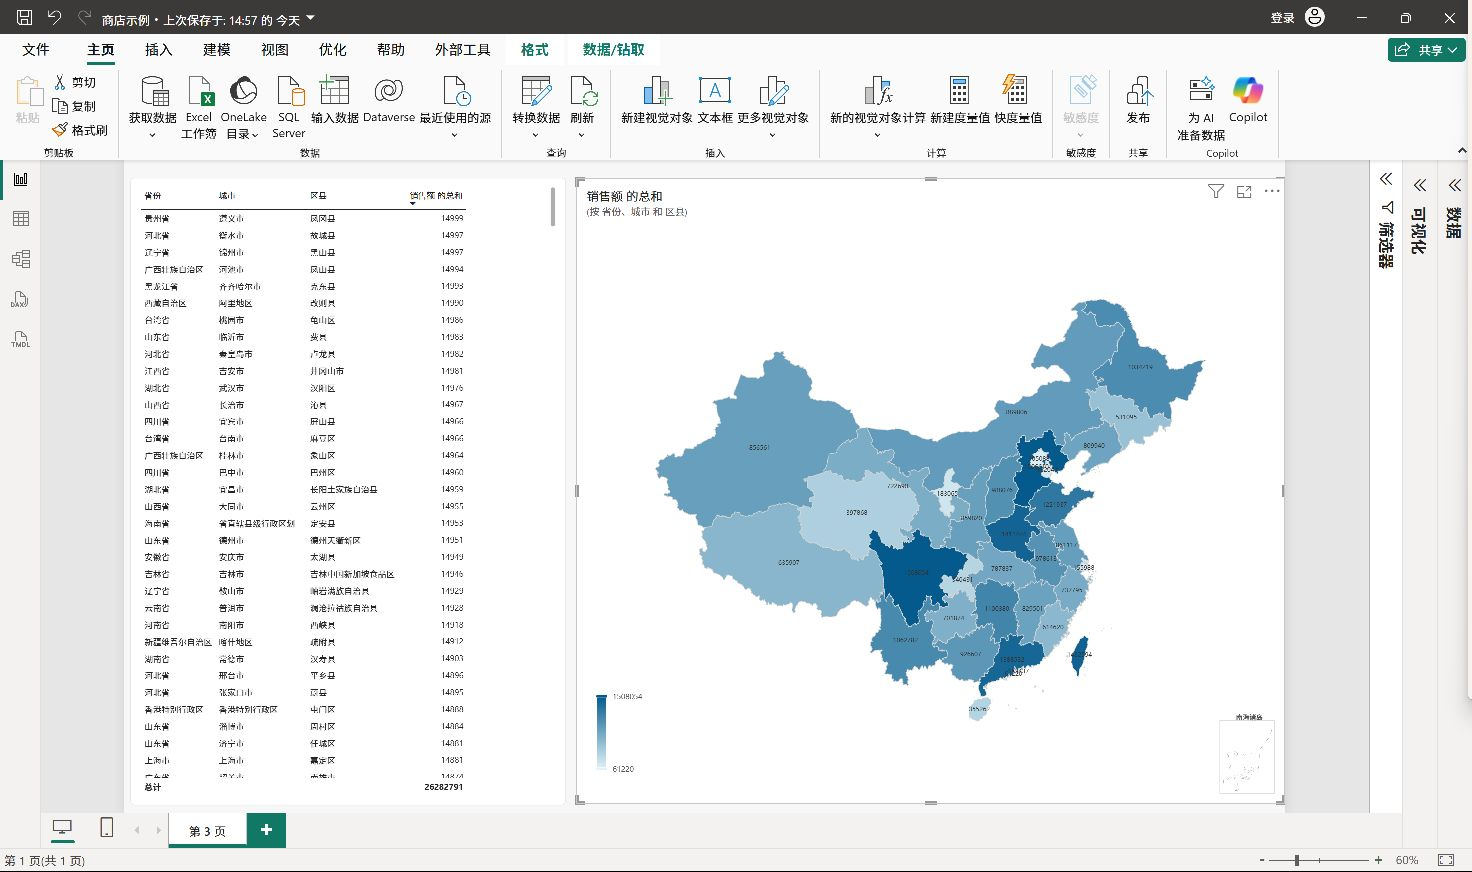

This screenshot's page, from the dashboard's own definition file:
{"tool":"powerbi","page":{"name":"第 3 页","canvas":[1920,1080],"ordinal":0},"visuals":[{"type":"chinaMapDrilldownV2F4A1C8D973E64B5AA27D1E6C80B42951","fields":{"province":["地图测试数据.省份"],"measure":["Sum(地图测试数据.销售额)"],"city":["地图测试数据.城市"],"district":["地图测试数据.区县"]},"box":[748,29.8,1172,1035.6],"z":1},{"type":"tableEx","fields":{"Values":["地图测试数据.省份","地图测试数据.城市","地图测试数据.区县","Sum(地图测试数据.销售额)"]},"box":[10.7,29.8,720.3,1037.8],"z":2}]}

Visuals, with their boxes on the page's 1920x1080 design canvas (x1, y1, x2, y2). These are canvas units, not pixel positions in the 1472x872 screenshot, which may show the page scaled, cropped or inside an application window:
chinaMapDrilldownV2F4A1C8D973E64B5AA27D1E6C80B42951 - 地图测试数据.省份 x Sum(地图测试数据.销售额): box(748, 30, 1920, 1065)
tableEx - 地图测试数据.省份 x 地图测试数据.城市: box(11, 30, 731, 1068)
